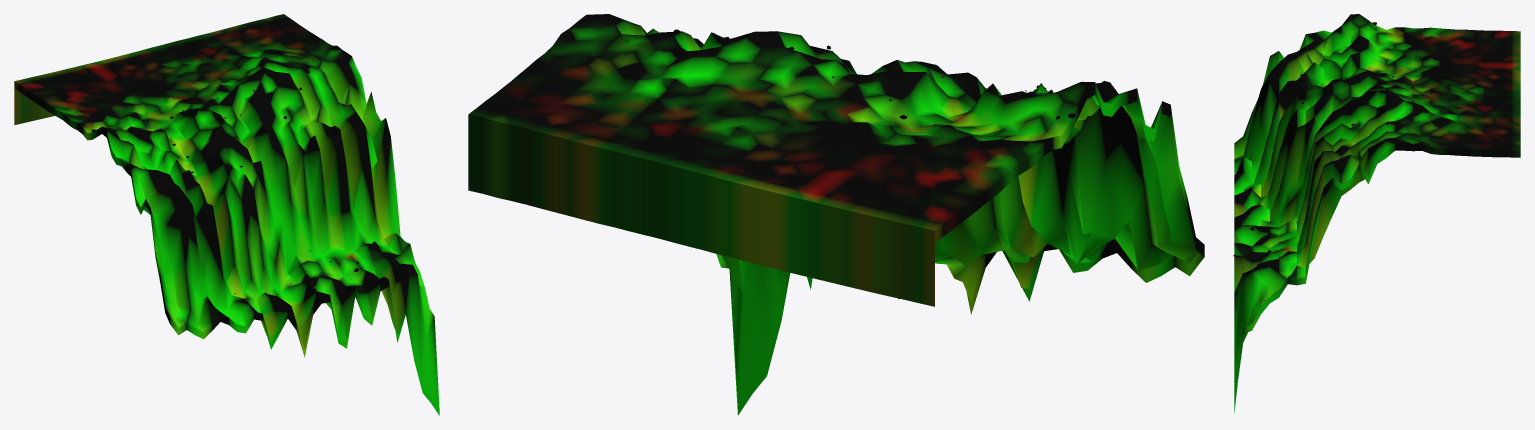
The model's file is Terrain_00_04.fbx.
3 views of the same model, side by side, from view 1: azimuth 30°, elevation 25°; view 2: azimuth 150°, elevation 25°; view 3: azimuth 270°, elevation 25° (orthographic). The views are drawn at different scales.
Parts seen in each view (by area): view 1: Terrain_00_04_LOD0; view 2: Terrain_00_04_LOD0; view 3: Terrain_00_04_LOD0.
Boxes of the visible parts, left/top/right/bottom form: Terrain_00_04_LOD0: left=14, top=14, right=439, bottom=415; Terrain_00_04_LOD0: left=468, top=14, right=1204, bottom=415; Terrain_00_04_LOD0: left=1233, top=14, right=1520, bottom=413.
Size of what is drawn, in the model's own units: 387 by 416 by 385.
